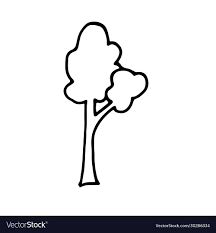tree: (57, 13, 152, 195)
